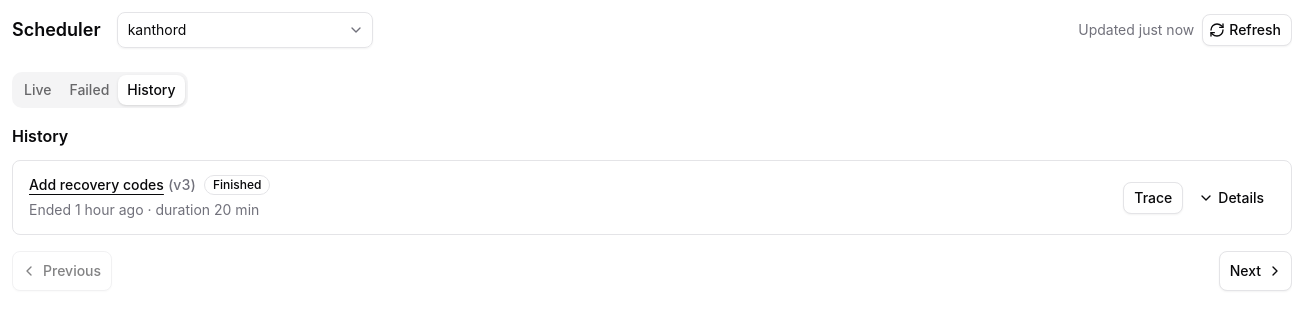
it: SchedulerScreen Done › reloads page 1 on the cycle and leaves page 2 alone
expect the link "Add recovery codes" is shown: met, box [29,175,164,195]
Click the button "Next": (1255, 271) [1219,251,1292,291]
Wait 15000 ms
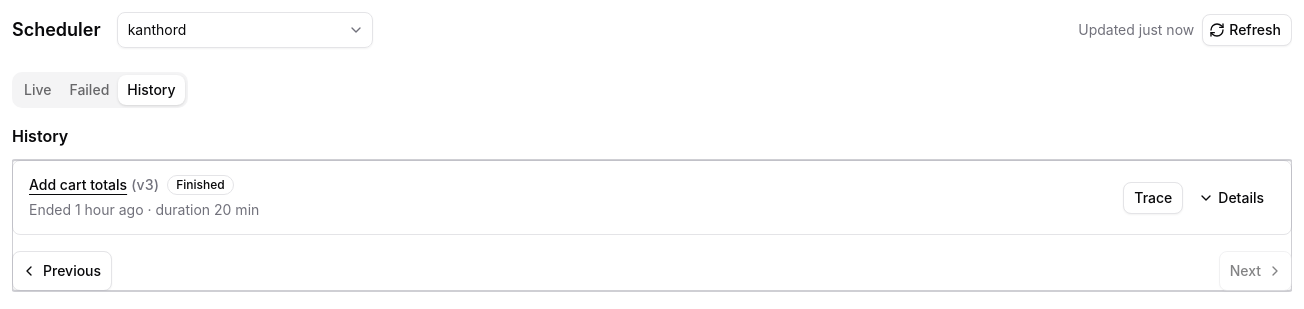
expect the link "Add cart totals" is shown: met, box [29,175,127,195]
